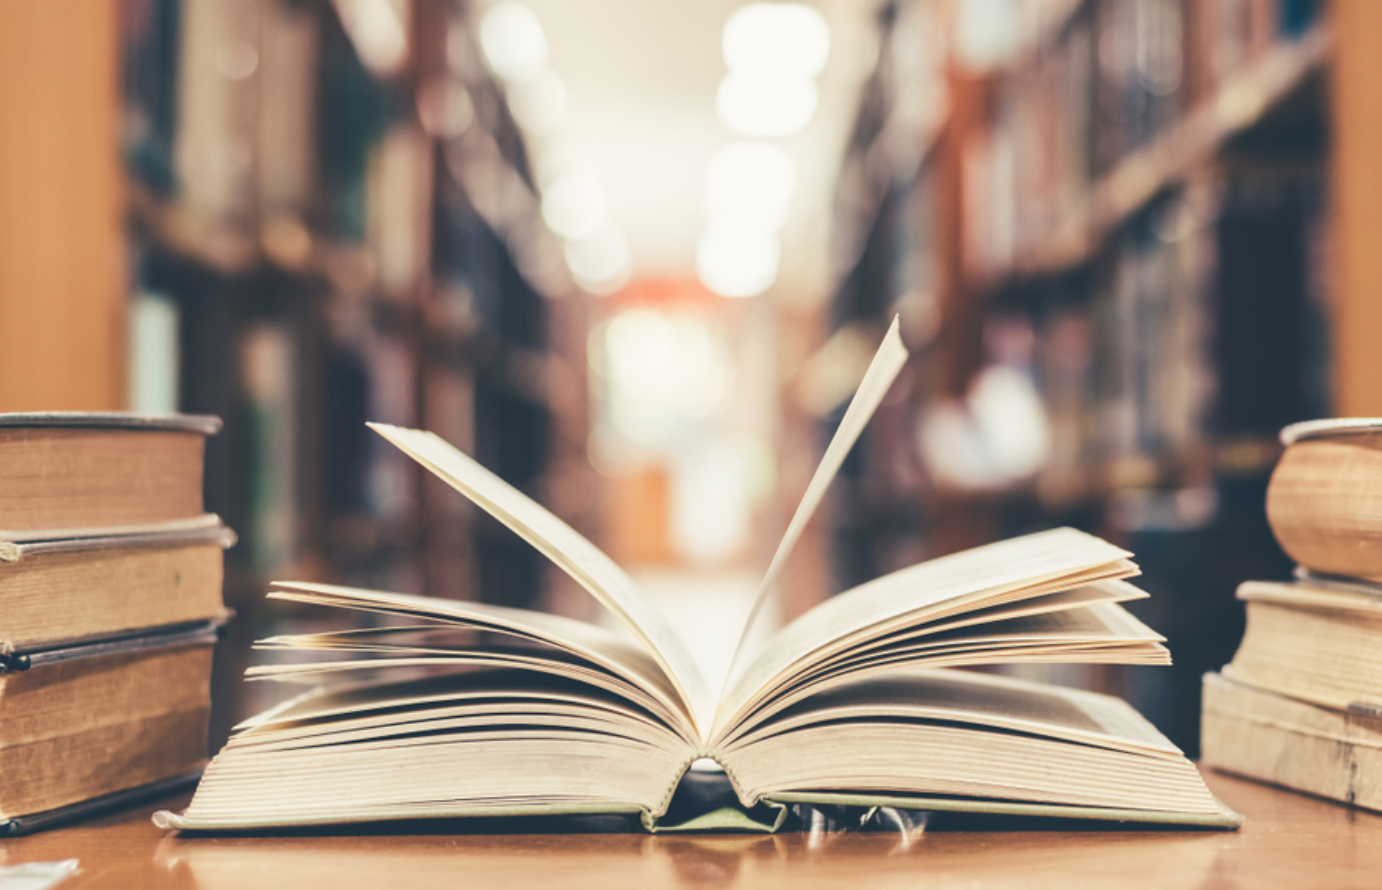book: (172, 312, 1251, 834)
